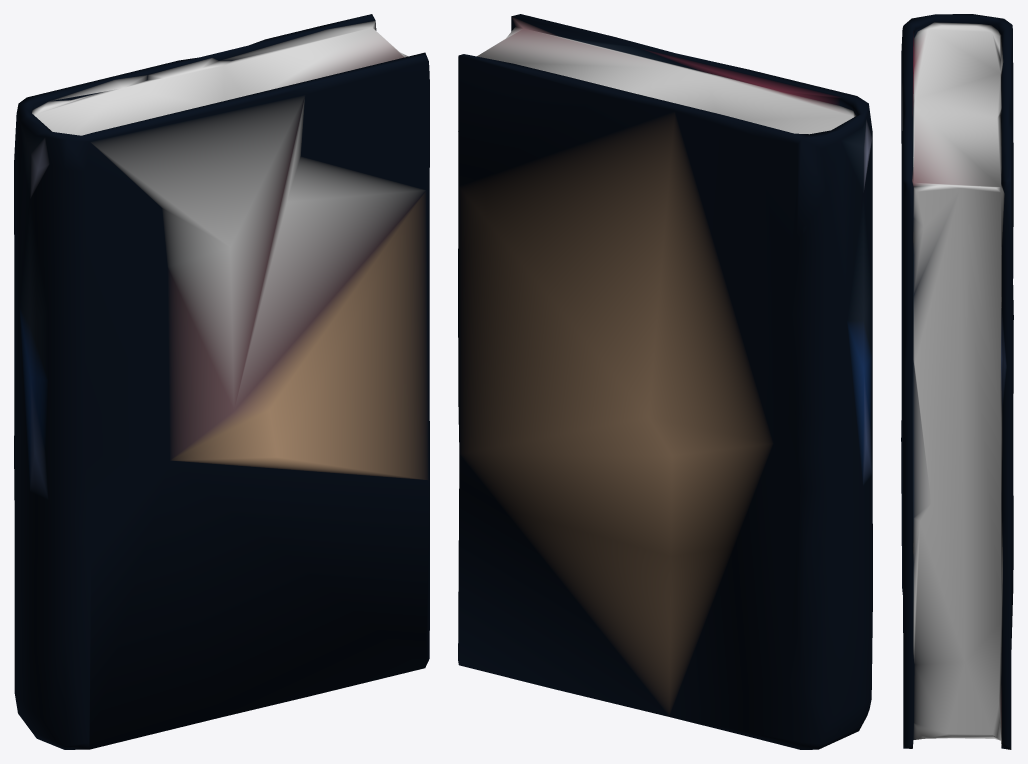
File: gen3d-book-lod1.glb
The picture shows the model from 3 angles, left to right: view 1: azimuth 30°, elevation 25°; view 2: azimuth 150°, elevation 25°; view 3: azimuth 270°, elevation 25°; orthographic projection. The views are drawn at different scales.
Visible parts, largest first — view 1: part_0; view 2: part_0; view 3: part_0.
Boxes of the visible parts, x1,y1,x2,y2 form: part_0: (14, 14, 429, 749); part_0: (458, 14, 872, 749); part_0: (901, 14, 1013, 749).
Bounding box in the file's own units: 0.6395 × 1 × 0.1788.
